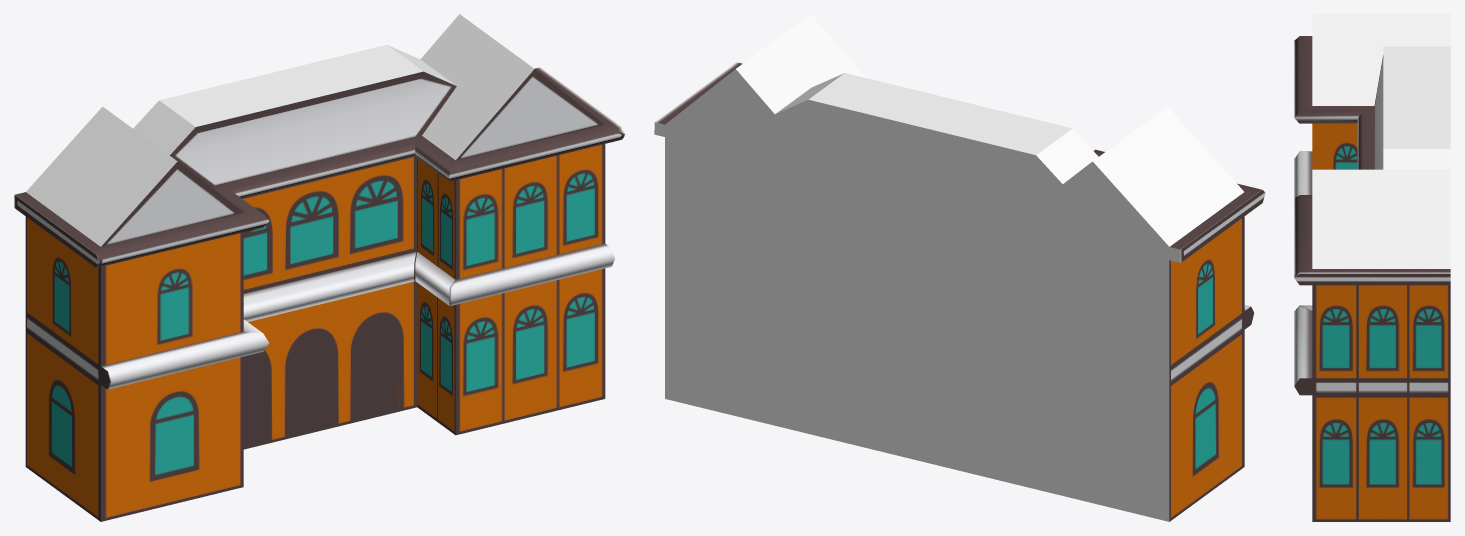
The model's file is Pibun.fbx.
3 renders of one model, left to right at view 1: azimuth 30°, elevation 25°; view 2: azimuth 150°, elevation 25°; view 3: azimuth 270°, elevation 25°, orthographic. The views are drawn at different scales.
Visible parts, largest first — view 1: polySurface4; view 2: polySurface4; view 3: polySurface4.
Boxes of the visible parts, x1,y1,x2,y2 form: polySurface4: (14,14,625,521); polySurface4: (654,14,1265,521); polySurface4: (1294,14,1450,521).
Size of the model in its own units: 5.28 by 3.33 by 1.47.
